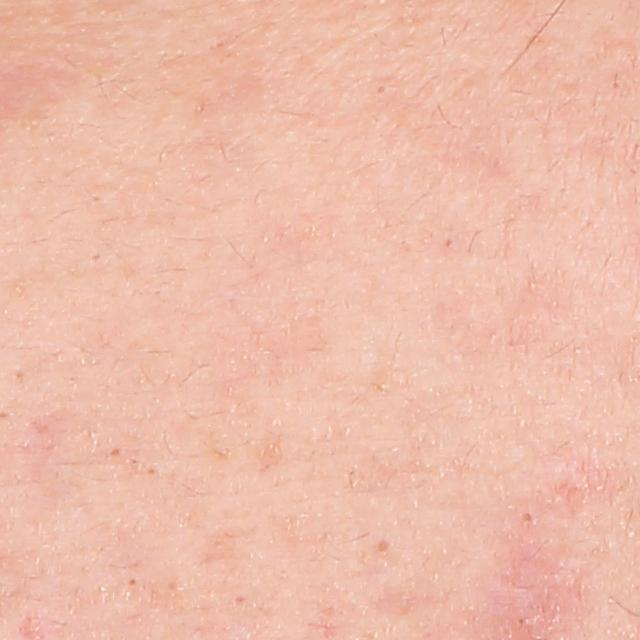comedo: (372, 535, 393, 559), (374, 79, 388, 99), (520, 510, 535, 524), (109, 446, 123, 459), (125, 577, 137, 588)
